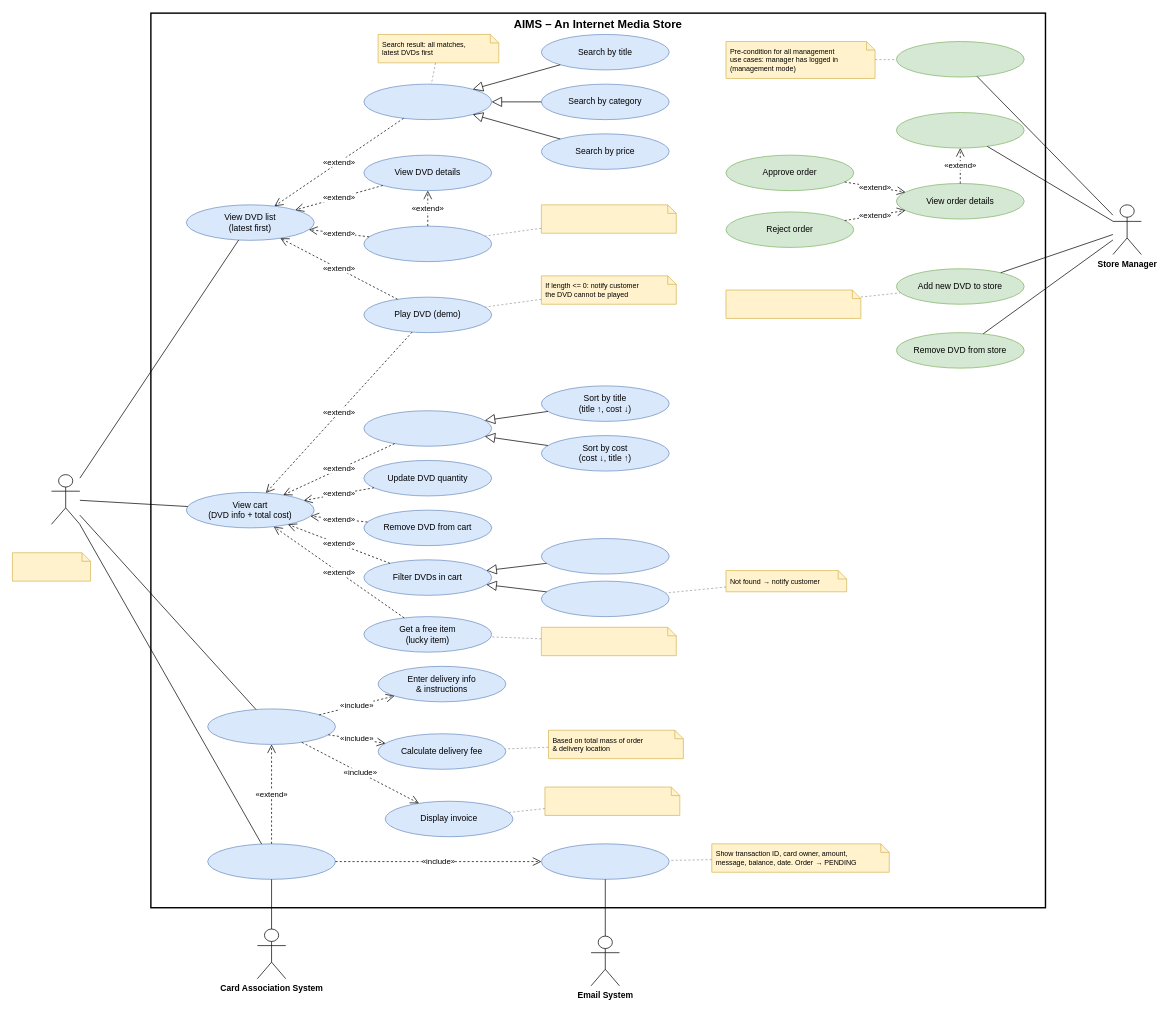
Some shapes in this 1169 by 1012 pixel diagram are drawn without their labels. The box of each missing label's shape, as (x1, y1, x2, y2) in pixels:
Add DVD to cart: (363, 225, 492, 262)
Customer: (51, 474, 80, 524)
Customer does not need to log in: (12, 552, 91, 581)
DVD list, total before VAT, total after VAT, delivery fee: (544, 786, 680, 815)
Filter by ID: (541, 538, 669, 574)
Filter by title: (541, 580, 669, 617)
From DVD list, search result or DVD detail screen: (541, 204, 676, 233)
Login: (896, 41, 1024, 77)
Must provide ID, title, category, director, length, cost: (725, 289, 861, 318)
Pay order (credit card): (207, 843, 335, 879)
Place order: (207, 708, 335, 744)
Search DVDs: (363, 83, 492, 120)
Send order & transaction info via email: (541, 843, 669, 879)
Sort DVDs in cart: (363, 410, 492, 446)
System randomly picks one item in the cart to be free: (541, 627, 676, 656)
View pending orders: (896, 112, 1024, 148)
